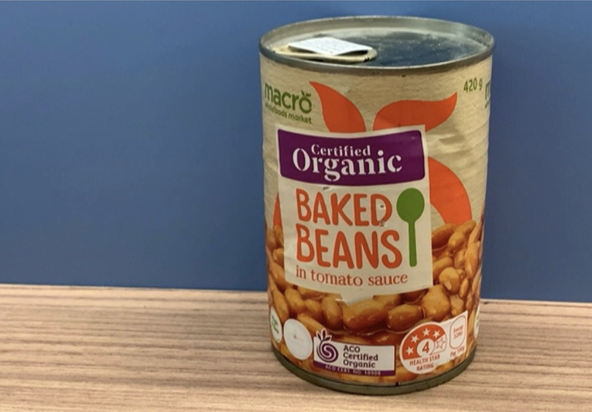Baked beans_400-499g: (274, 100, 466, 367)
